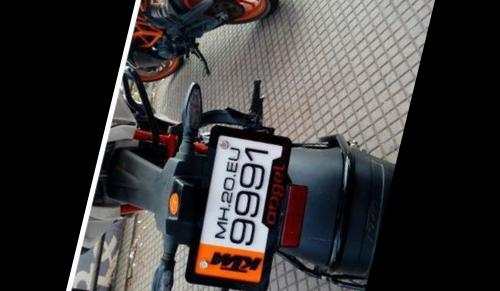plate: (187, 130, 296, 291)
